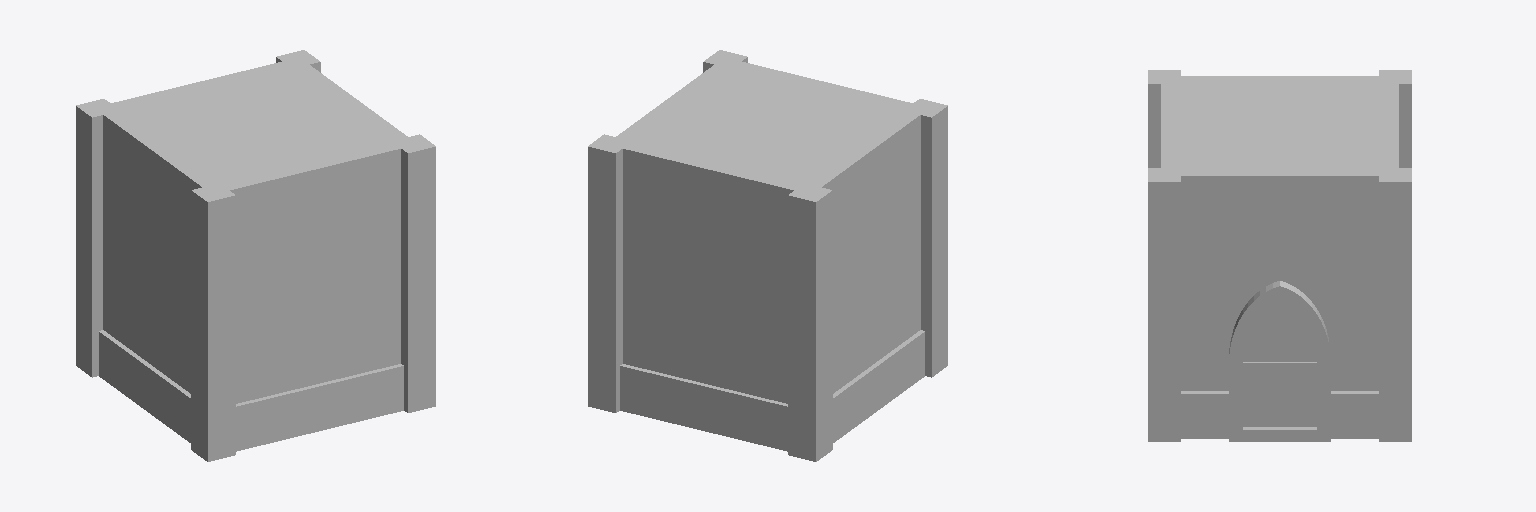
The model's file is towerSquareMidDoor_exclusive.obj.
3 renders of one model, left to right at view 1: azimuth 30°, elevation 25°; view 2: azimuth 150°, elevation 25°; view 3: azimuth 270°, elevation 25°, orthographic.
Parts seen in each view (by area): view 1: towerSquareMidDoor_exclusive; view 2: towerSquareMidDoor_exclusive; view 3: towerSquareMidDoor_exclusive.
Boxes of the visible parts, x1,y1,x2,y2 form: towerSquareMidDoor_exclusive: [76, 50, 435, 461]; towerSquareMidDoor_exclusive: [588, 50, 947, 461]; towerSquareMidDoor_exclusive: [1148, 70, 1411, 441].
Bounding box in the file's own units: 9.3 × 10.1 × 9.3.